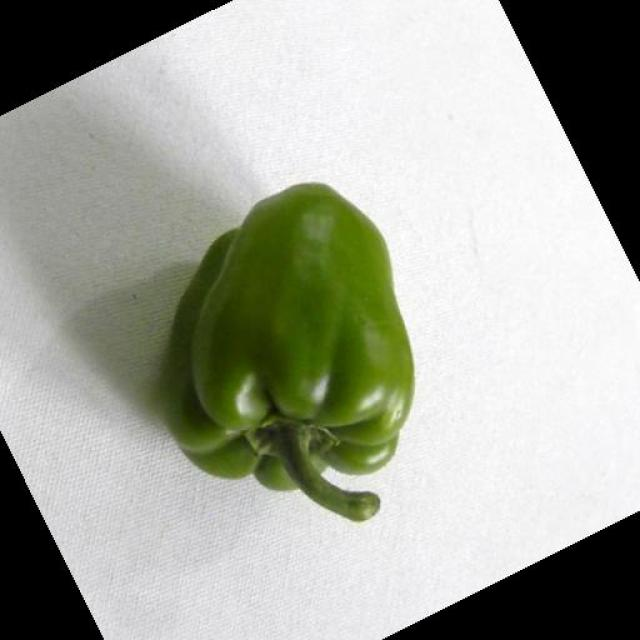Fresh_Capsicum: (157, 156, 442, 539)
